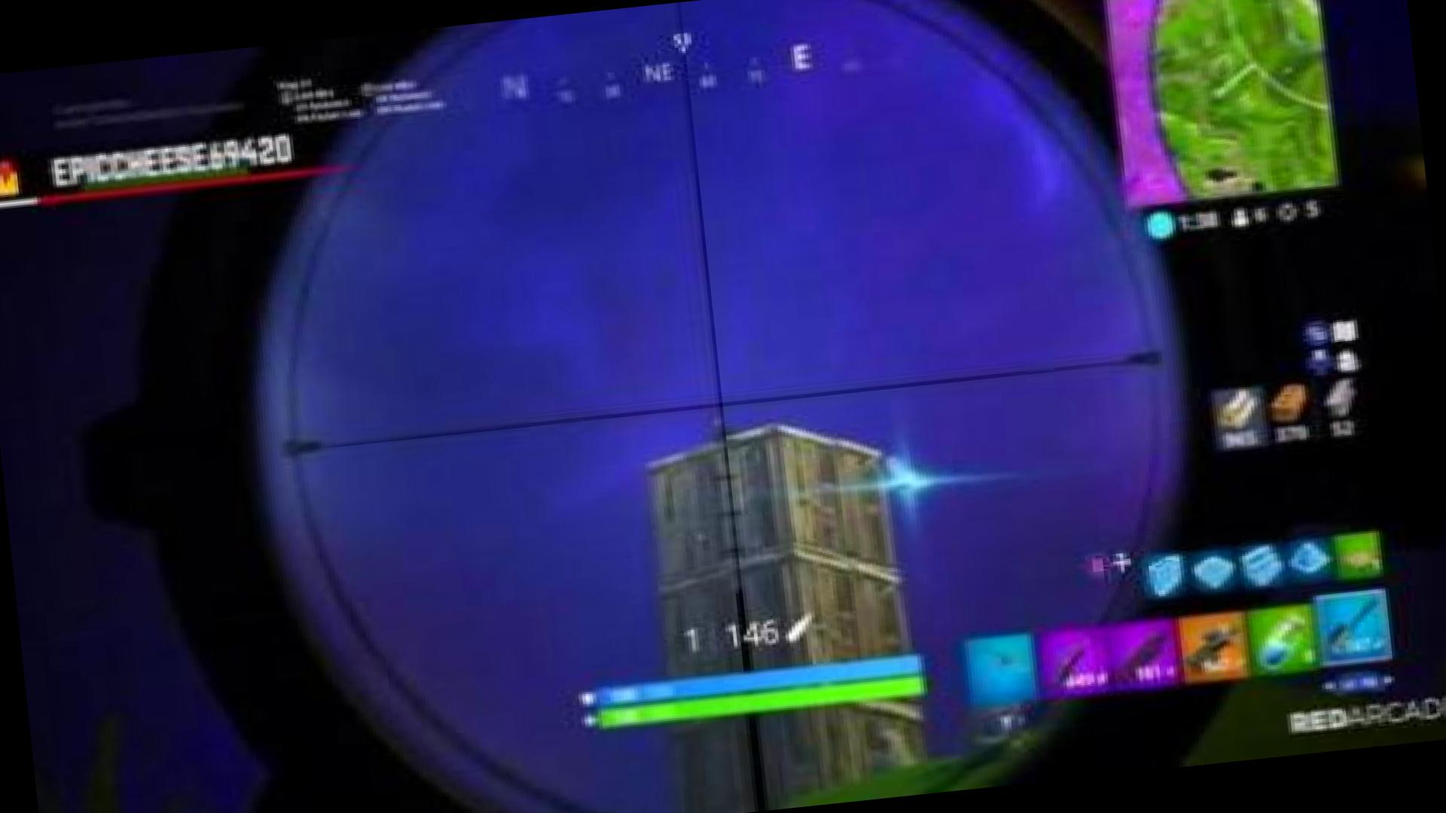player: (691, 414, 749, 445)
